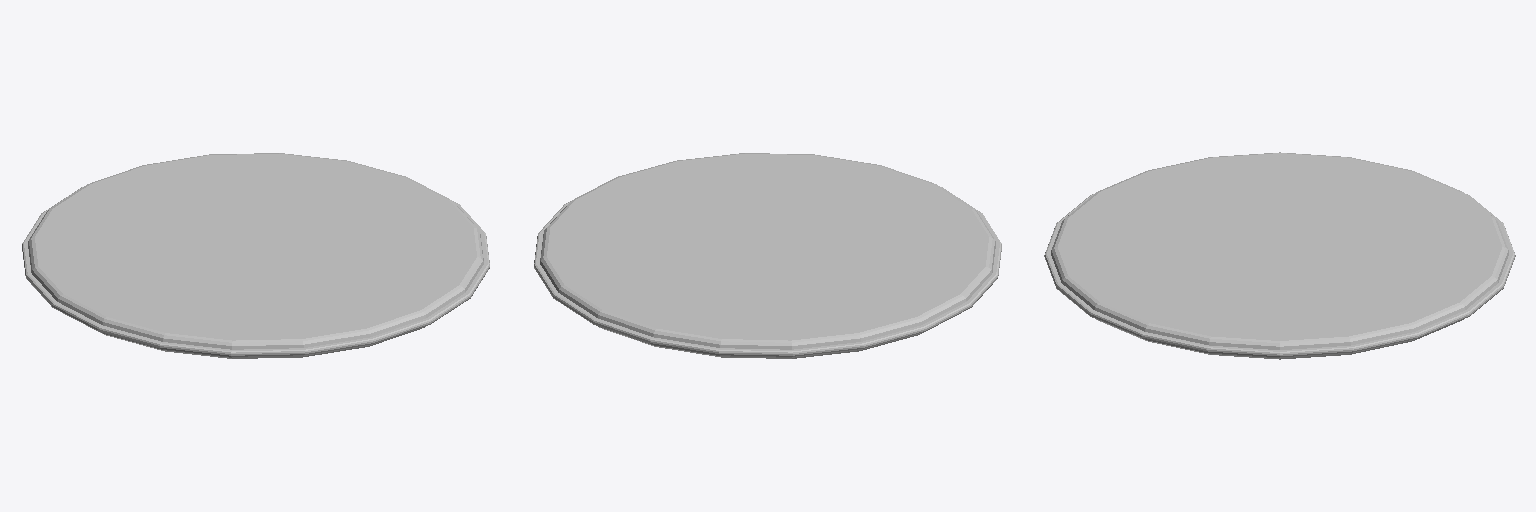
File: sideTabletop_3.obj
3 views of the same model, side by side, from view 1: azimuth 30°, elevation 25°; view 2: azimuth 150°, elevation 25°; view 3: azimuth 270°, elevation 25° (orthographic).
Bounding box in the file's own units: 12.47 × 0.5223 × 12.47.